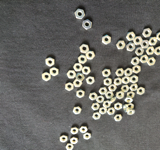nut: (75, 9, 85, 19), (126, 42, 136, 52), (83, 19, 92, 30), (143, 28, 152, 38), (102, 35, 111, 45), (116, 41, 126, 50), (135, 47, 145, 56), (140, 54, 149, 64), (80, 44, 89, 54), (86, 51, 96, 60), (78, 55, 88, 64), (46, 57, 55, 67), (50, 67, 59, 77), (42, 72, 51, 82), (73, 79, 83, 88), (149, 37, 158, 46), (141, 40, 150, 49), (134, 36, 143, 45), (127, 32, 136, 41), (131, 57, 140, 66), (74, 63, 83, 72), (82, 66, 91, 75), (76, 73, 85, 82), (116, 68, 125, 77), (102, 69, 111, 78), (114, 77, 123, 86), (116, 91, 125, 100), (146, 47, 156, 55), (67, 71, 77, 79), (148, 57, 156, 66), (86, 77, 95, 85), (66, 83, 74, 92), (77, 90, 85, 99), (73, 107, 82, 115), (133, 65, 141, 74), (125, 68, 133, 77), (131, 75, 139, 84), (123, 76, 131, 85), (130, 84, 139, 92), (121, 85, 130, 93), (89, 93, 98, 101), (107, 108, 116, 116), (99, 107, 108, 115), (104, 78, 112, 86), (127, 91, 135, 99), (109, 96, 117, 104), (103, 100, 111, 108), (92, 103, 100, 111), (93, 112, 101, 120), (71, 127, 79, 135), (60, 135, 68, 143), (109, 85, 118, 92), (99, 88, 108, 95), (138, 87, 145, 95), (106, 92, 114, 99), (97, 96, 105, 103), (127, 109, 135, 116), (115, 103, 123, 110), (115, 115, 123, 122), (80, 127, 88, 134), (71, 137, 78, 145), (125, 97, 134, 103), (84, 133, 91, 140), (66, 144, 74, 150), (155, 47, 160, 56), (124, 105, 129, 113), (128, 103, 134, 109), (157, 32, 160, 41)
